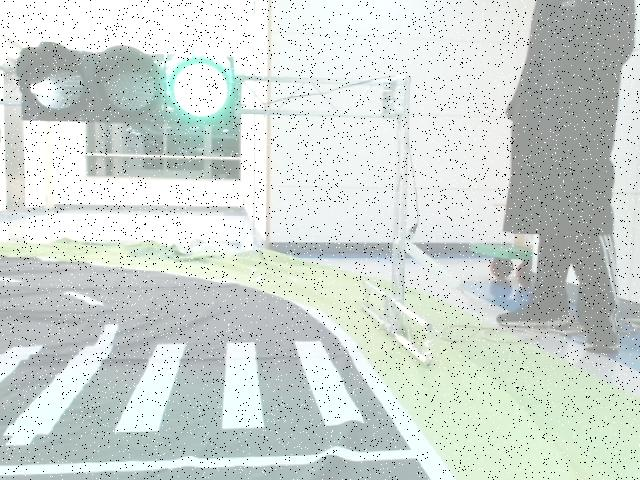crosswalk: (0, 344, 369, 430)
traffic light-green-: (17, 41, 238, 125)
